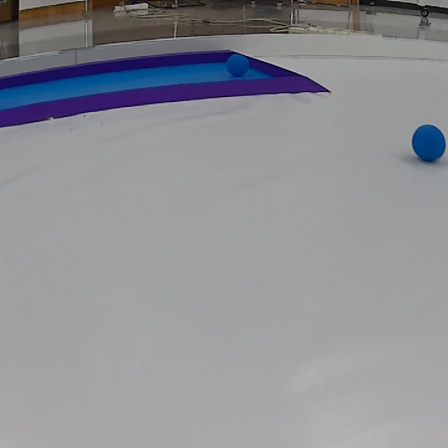blue: (406, 120, 448, 165), (223, 53, 258, 81)
blue_aim: (0, 47, 329, 126)
